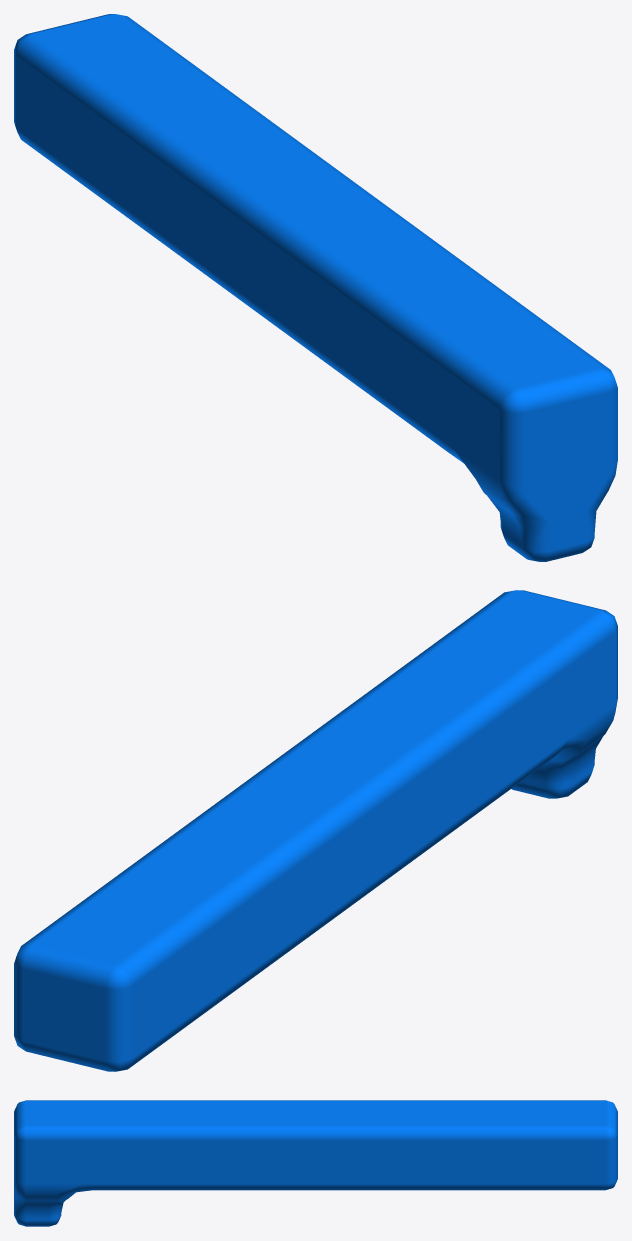
Rendered from 181120 Beam Chamfered Smooth.obj.
The picture shows the model from 3 angles, top to bottom: view 1: azimuth 30°, elevation 25°; view 2: azimuth 150°, elevation 25°; view 3: azimuth 270°, elevation 25°; orthographic projection. The views are drawn at different scales.
Size of the model in its own units: 0.102 by 0.15 by 0.7608.
